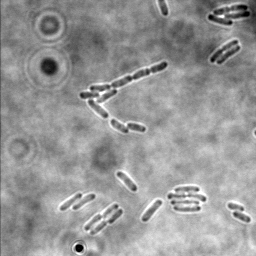Dividing: (83, 203, 119, 232), (89, 208, 124, 236), (208, 39, 239, 63), (212, 4, 249, 16)
Microcolony: (78, 60, 168, 120), (166, 185, 207, 214)
Rod: (216, 44, 242, 66), (140, 198, 162, 223), (115, 171, 138, 193), (59, 192, 83, 212), (71, 193, 96, 212), (207, 13, 233, 27), (223, 10, 251, 21), (109, 119, 128, 135), (231, 210, 251, 224), (226, 200, 246, 214), (126, 122, 146, 134)
